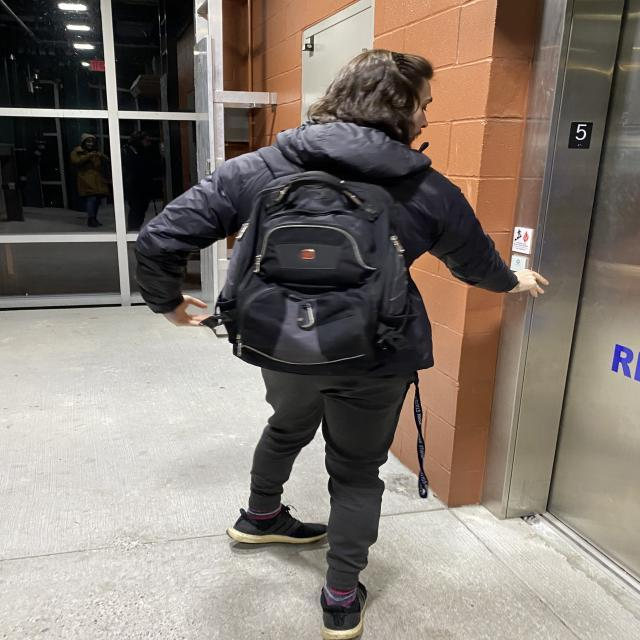Backpacks: (211, 170, 420, 378)
